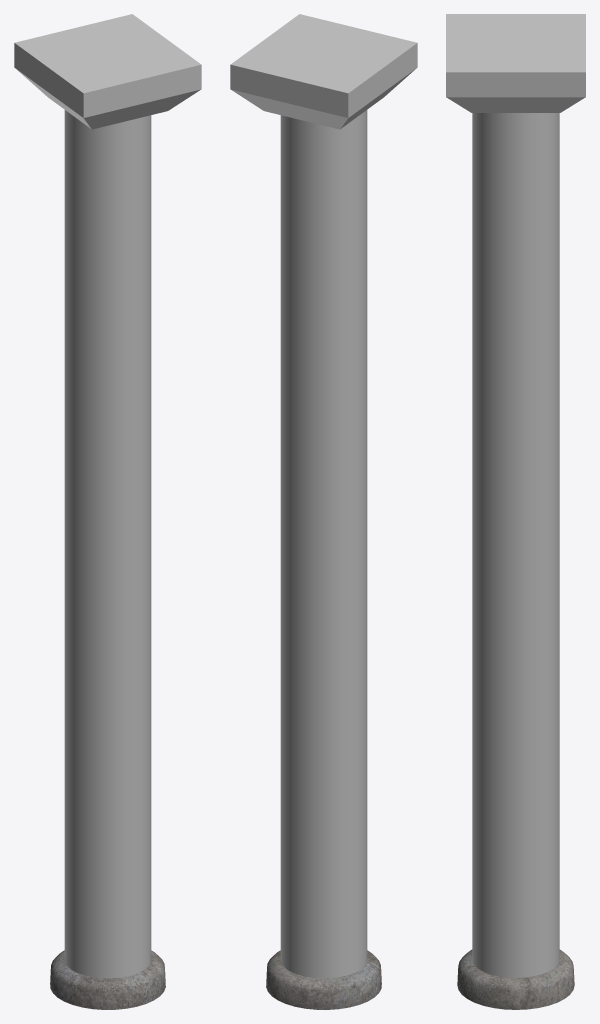
File: SM_Pillar_16.FBX
The picture shows the model from 3 angles, left to right: view 1: azimuth 30°, elevation 25°; view 2: azimuth 150°, elevation 25°; view 3: azimuth 270°, elevation 25°; orthographic projection.
Visible parts, largest first — view 1: SM_Pillar_16; view 2: SM_Pillar_16; view 3: SM_Pillar_16.
Boxes of the visible parts, x1=… form: SM_Pillar_16: x1=14, y1=14, x2=201, y2=1009; SM_Pillar_16: x1=230, y1=14, x2=417, y2=1009; SM_Pillar_16: x1=446, y1=14, x2=585, y2=1009.
Bounding box in the file's own units: 80.51 × 607 × 81.74.
